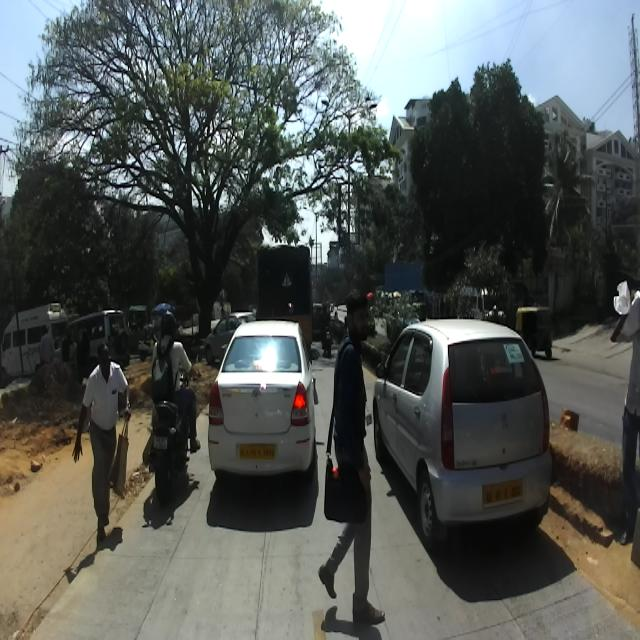car ahead at: (372, 315, 558, 560), (213, 317, 315, 486)
motorcycle ahead at: (146, 397, 201, 513)
person ahead at: (318, 290, 385, 631), (71, 345, 133, 549)
